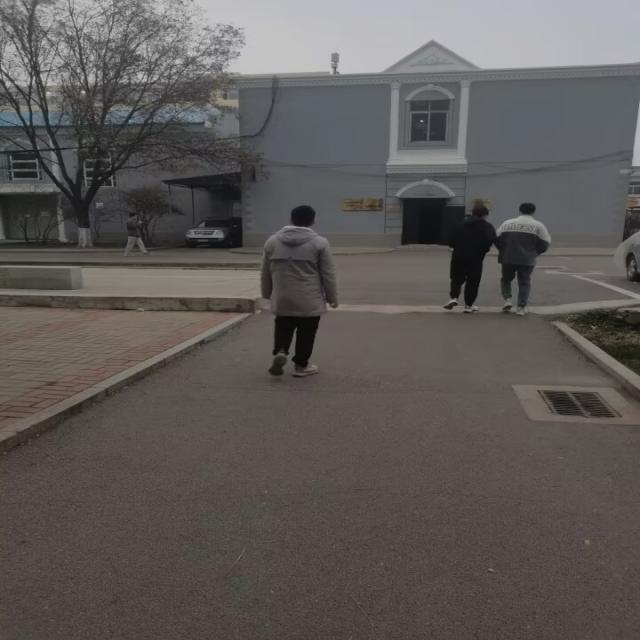non-fight: (256, 202, 341, 381), (492, 200, 550, 317), (443, 197, 494, 314)
